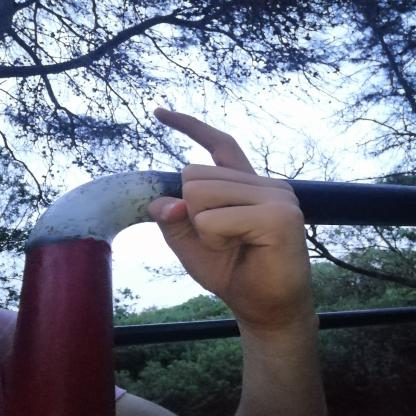RAA: (135, 95, 326, 329)
